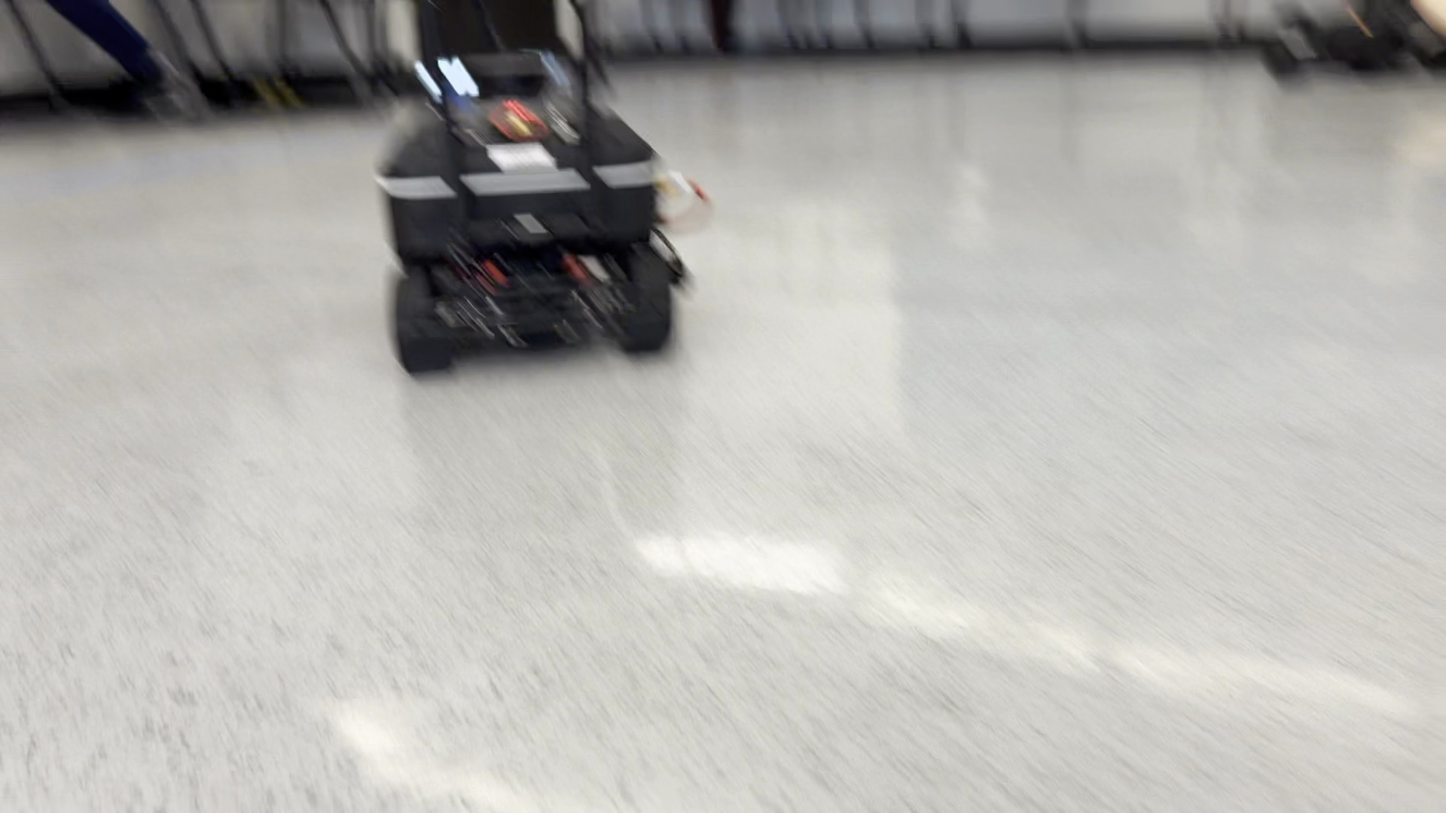racecar: (374, 0, 709, 378)
